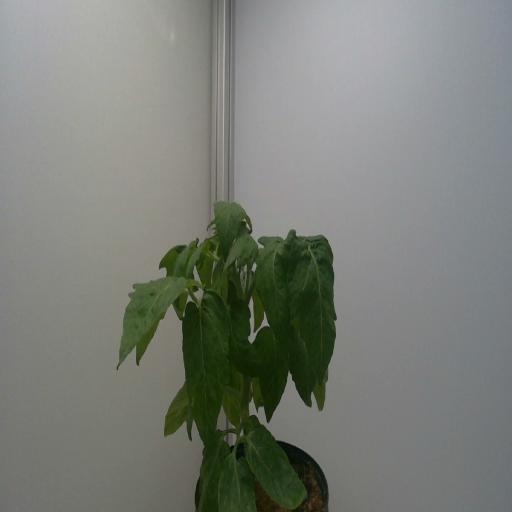Tomato-Leaves-Cupboard-: (111, 276, 196, 372), (289, 230, 339, 380), (182, 296, 228, 441), (245, 423, 309, 509), (253, 242, 290, 355), (158, 236, 197, 321), (260, 325, 292, 423), (196, 429, 231, 508), (221, 446, 260, 512), (212, 195, 245, 263), (136, 308, 164, 369), (163, 381, 192, 439), (220, 356, 242, 427), (226, 290, 252, 341), (224, 232, 258, 265), (198, 240, 217, 293), (252, 266, 264, 330), (256, 226, 284, 251), (186, 409, 196, 444), (245, 415, 261, 434)
